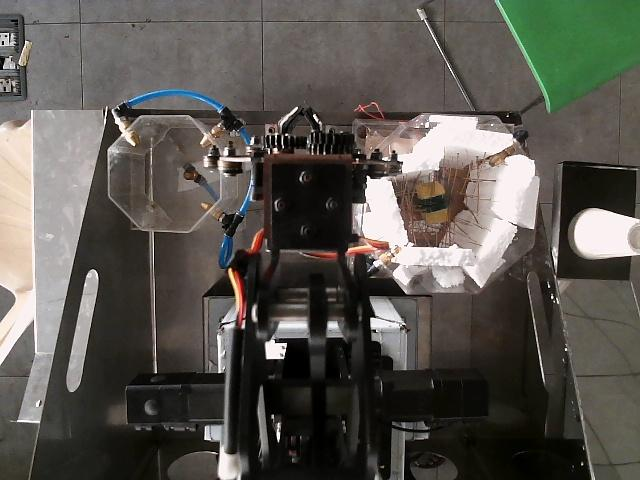cup: (568, 208, 639, 259)
